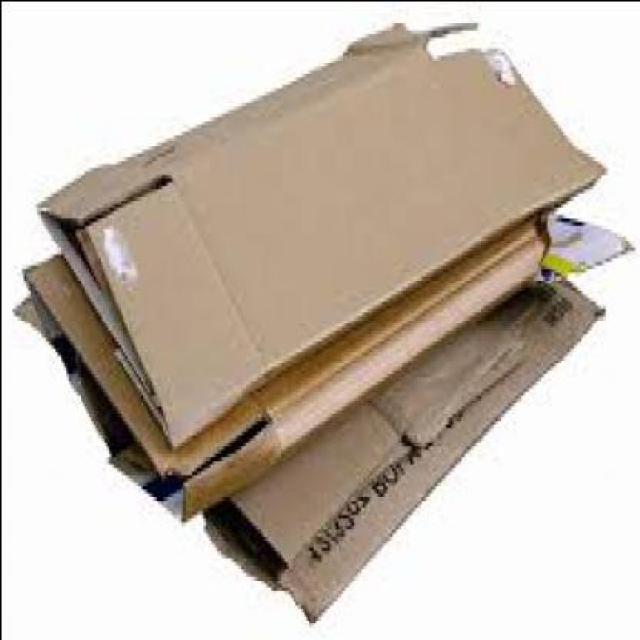CARDBOARD: (32, 210, 638, 622), (37, 14, 608, 441), (13, 206, 550, 525)
